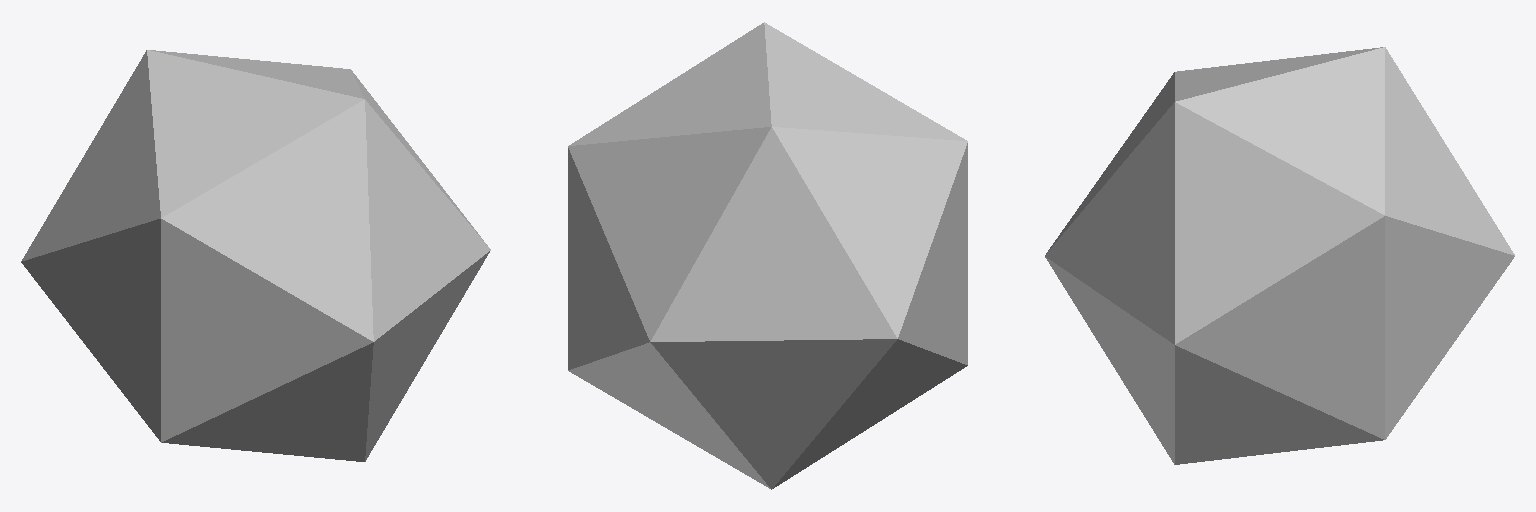
The model's file is button_3.obj.
The picture shows the model from 3 angles: view 1: azimuth 30°, elevation 25°; view 2: azimuth 150°, elevation 25°; view 3: azimuth 270°, elevation 25°; orthographic projection.
Parts seen in each view (by area): view 1: pasted__button1; view 2: pasted__button1; view 3: pasted__button1.
Part boxes in pixels (x1,y1,x2,y2): pasted__button1: (21,50,490,461); pasted__button1: (568,22,967,489); pasted__button1: (1045,47,1514,464).
Size of the model in its own units: 0.5367 by 0.5104 by 0.6.